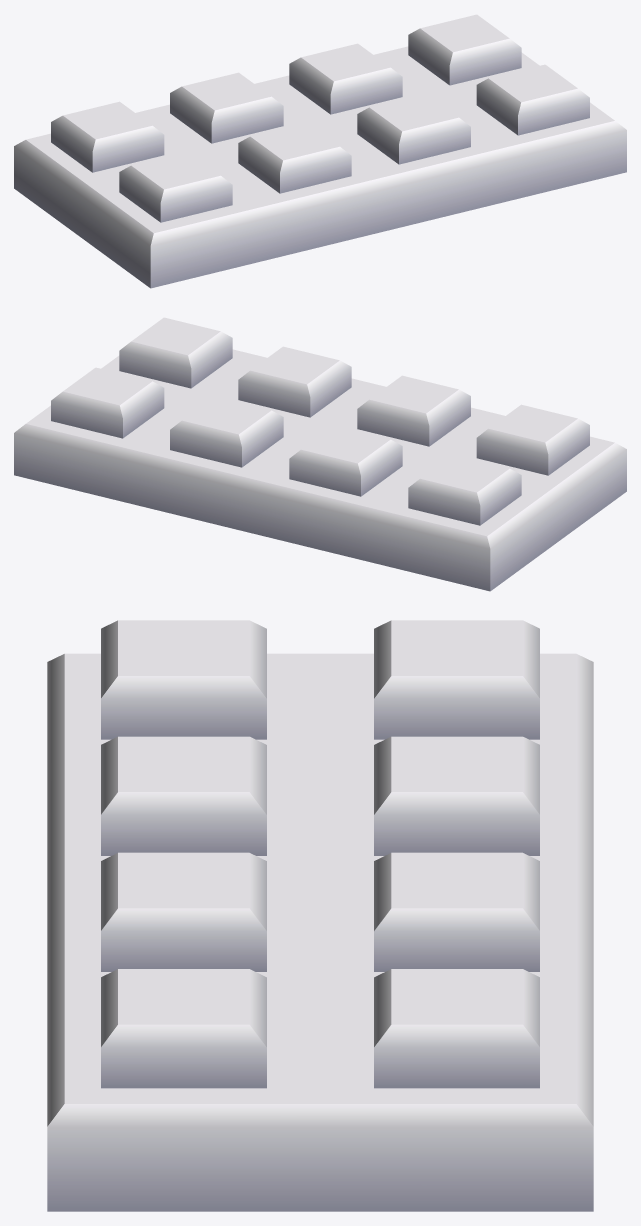
Rendered from kenney-brick-square-hq-plate-2-x-4.glb.
3 views of the same model, one above another, from view 1: azimuth 30°, elevation 25°; view 2: azimuth 150°, elevation 25°; view 3: azimuth 270°, elevation 25° (orthographic). The views are drawn at different scales.
Parts seen in each view (by area): view 1: square-hq-plate-2x4; view 2: square-hq-plate-2x4; view 3: square-hq-plate-2x4.
Part boxes in pixels (left/top/right/bottom): square-hq-plate-2x4: left=14, top=14, right=626, bottom=288; square-hq-plate-2x4: left=14, top=317, right=626, bottom=591; square-hq-plate-2x4: left=47, top=620, right=593, bottom=1211.
Size of the model in its own units: 0.318 by 0.05 by 0.158.
1 material, 1 textured.
